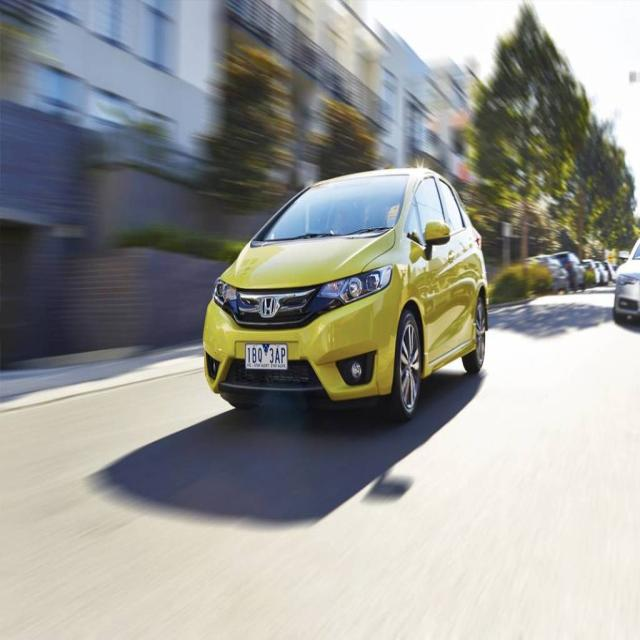car: (200, 161, 497, 423)
